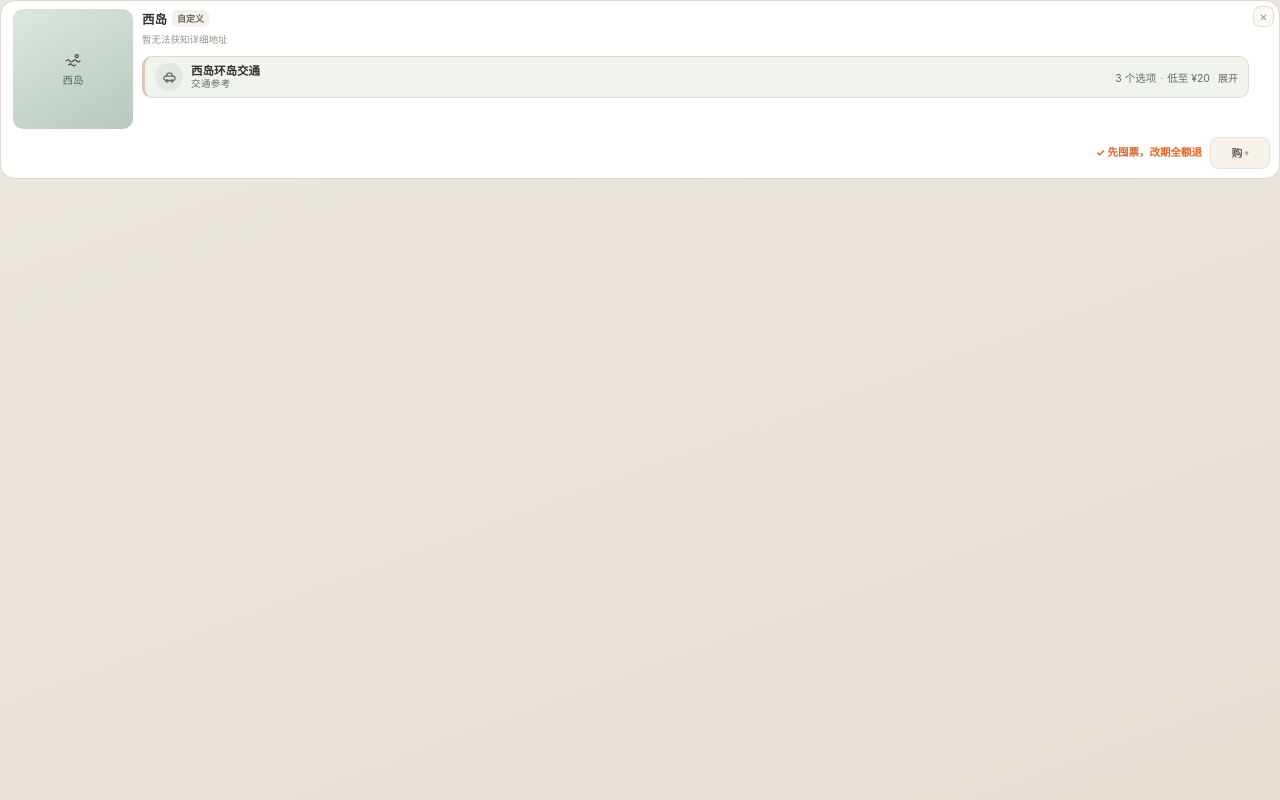
it: VisitCard 实用参考选项组（任务 190） › 展开：每选项一行 + 可议价标记 + 分类 chip + 「价格仅供参考」；收起复原
The width and height of the screenshot is (1280, 800).
Click the button with class "og-head": (226, 71) [145,57,1248,97]
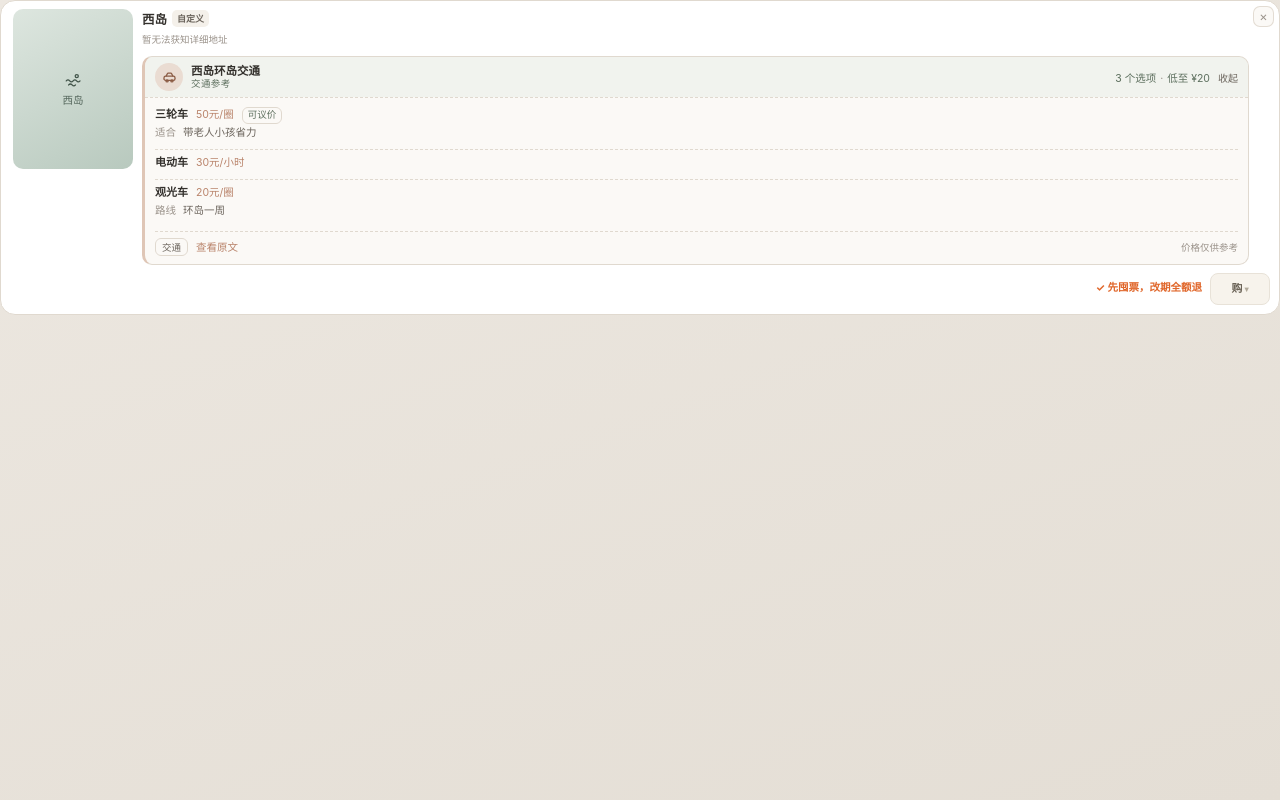
Expected: the button with class "og-head" is expanded
Expected: the element with class "og-row" shows "三轮车", [155,107,188,121]
Expected: the element with class "og-row" shows "50元/圈", [196,108,234,121]
# 再点收起：明细隐藏
Click the button with class "og-head": (226, 71) [145,57,1248,97]
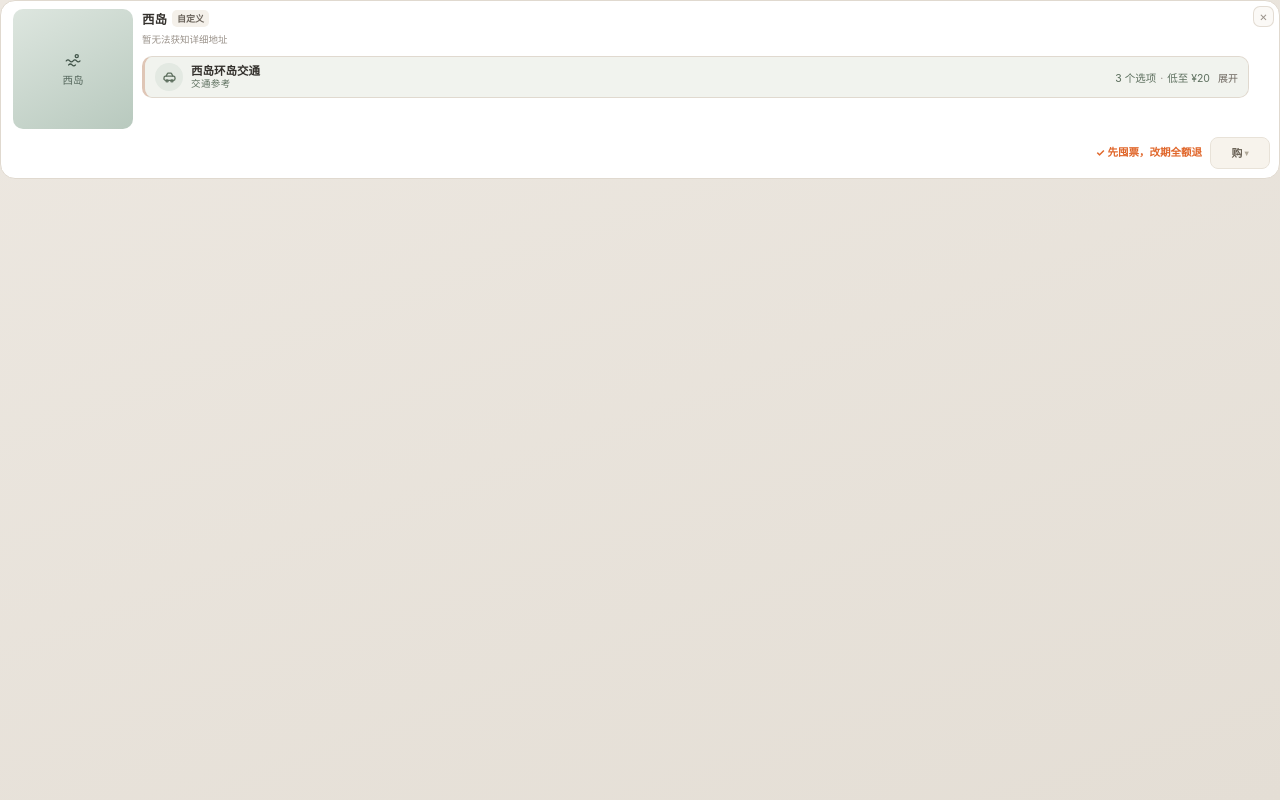
Expected: the text "三轮车" is gone
